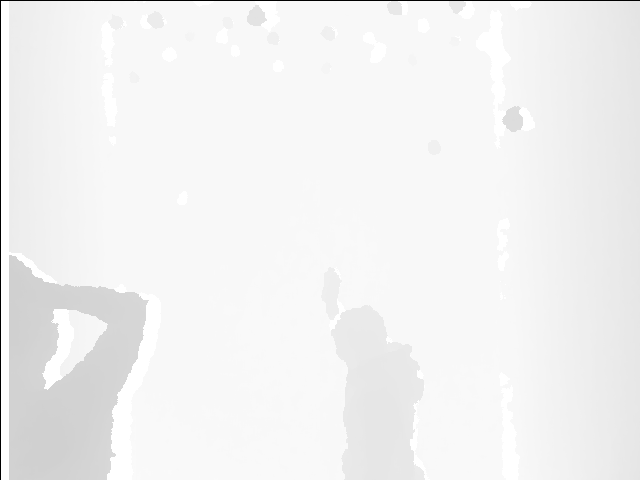hand: (321, 265, 343, 306)
